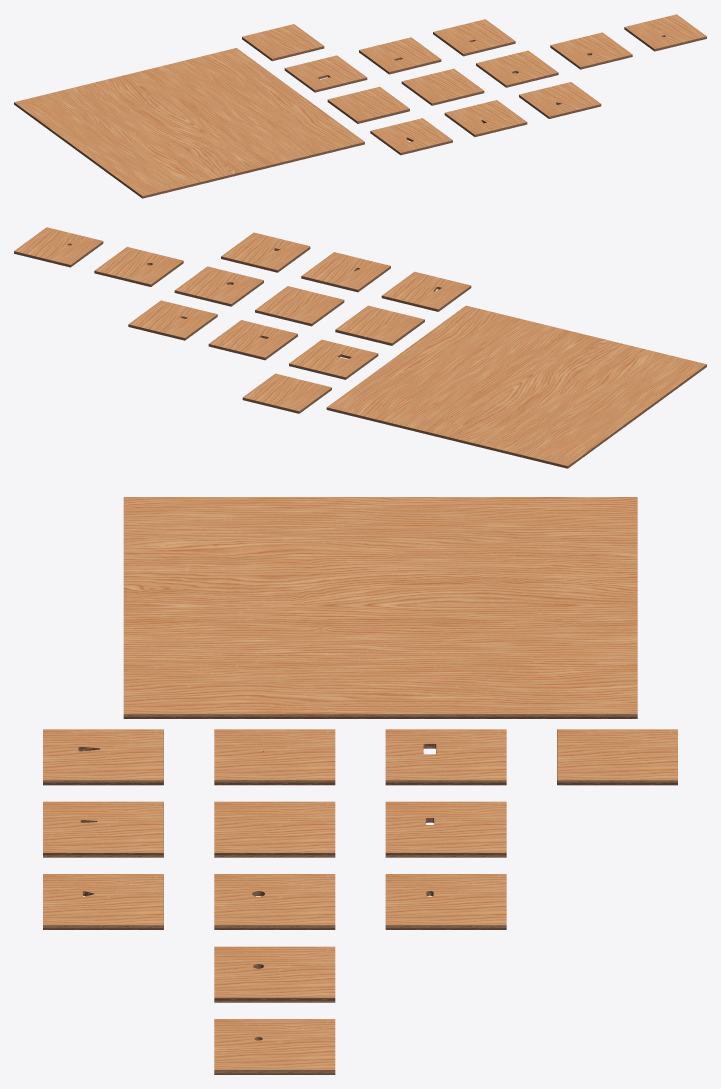
Rendered from Lookdev Playfields.fbx.
The picture shows the model from 3 angles, top to bottom: view 1: azimuth 30°, elevation 25°; view 2: azimuth 150°, elevation 25°; view 3: azimuth 270°, elevation 25°; orthographic projection. The views are drawn at different scales.
Parts seen in each view (by area): view 1: Playfield, Solid, Large, Playfield, Kicker, 1.25in, Beveled, Playfield, Insert, Rectangle, 2.25x1.125in, Playfield, Kicker, 1.25in, Playfield, Insert, Circle, 0.75in, Playfield, Drop Target, Playfield, Insert, Rectangle, 1.5x0.75in, Playfield, Insert, Triangle, 1.5in, Playfield, Solid, Playfield, Insert, Circle, 1.1875in, Playfield, Insert, Circle, 1in, Playfield, Insert, Trangle, 2in (+1 smaller); view 2: Playfield, Solid, Large, Playfield, Kicker, 1.25in, Beveled, Playfield, Insert, Rectangle, 1.5x0.75in, Playfield, Drop Target, Playfield, Insert, Rectangle, 2.25x1.125in, Playfield, Insert, Trangle, 2in, Playfield, Insert, Circle, 0.75in, Playfield, Insert, Trangle, 1.1875in, Playfield, Insert, Triangle, 1.5in, Playfield, Solid, Playfield, Insert, Circle, 1.1875in, Playfield, Kicker, 1.25in (+1 smaller); view 3: Playfield, Solid, Large, Playfield, Kicker, 1.25in, Playfield, Kicker, 1.25in, Beveled, Playfield, Insert, Circle, 1in, Playfield, Insert, Rectangle, 1.5x0.75in, Playfield, Insert, Trangle, 2in, Playfield, Insert, Triangle, 1.5in, Playfield, Solid, Playfield, Insert, Rectangle, 2.25x1.125in, Playfield, Drop Target, Playfield, Insert, Circle, 0.75in, Playfield, Insert, Circle, 1.1875in (+1 smaller).
Boxes of the visible parts, x1=… form: Playfield, Solid, Large: x1=14, y1=48, x2=364, y2=198; Playfield, Kicker, 1.25in, Beveled: x1=327, y1=86, x2=409, y2=123; Playfield, Insert, Rectangle, 2.25x1.125in: x1=284, y1=55, x2=367, y2=92; Playfield, Kicker, 1.25in: x1=401, y1=68, x2=484, y2=105; Playfield, Insert, Circle, 0.75in: x1=624, y1=14, x2=706, y2=51; Playfield, Drop Target: x1=433, y1=19, x2=515, y2=56; Playfield, Insert, Rectangle, 1.5x0.75in: x1=359, y1=37, x2=441, y2=74; Playfield, Insert, Triangle, 1.5in: x1=444, y1=100, x2=527, y2=136; Playfield, Solid: x1=242, y1=24, x2=324, y2=61; Playfield, Insert, Circle, 1.1875in: x1=476, y1=50, x2=558, y2=87; Playfield, Insert, Circle, 1in: x1=550, y1=32, x2=632, y2=69; Playfield, Insert, Trangle, 2in: x1=370, y1=118, x2=452, y2=155; Playfield, Solid, Large: x1=326, y1=305, x2=706, y2=468; Playfield, Kicker, 1.25in, Beveled: x1=335, y1=305, x2=424, y2=345; Playfield, Insert, Rectangle, 1.5x0.75in: x1=208, y1=320, x2=297, y2=360; Playfield, Drop Target: x1=128, y1=300, x2=217, y2=340; Playfield, Insert, Rectangle, 2.25x1.125in: x1=289, y1=339, x2=378, y2=379; Playfield, Insert, Trangle, 2in: x1=381, y1=271, x2=471, y2=311; Playfield, Insert, Circle, 0.75in: x1=14, y1=227, x2=103, y2=267; Playfield, Insert, Trangle, 1.1875in: x1=221, y1=232, x2=310, y2=272; Playfield, Insert, Triangle, 1.5in: x1=301, y1=252, x2=390, y2=292; Playfield, Solid: x1=242, y1=373, x2=331, y2=413; Playfield, Insert, Circle, 1.1875in: x1=174, y1=266, x2=263, y2=306; Playfield, Kicker, 1.25in: x1=255, y1=286, x2=344, y2=326; Playfield, Solid, Large: x1=123, y1=497, x2=637, y2=718; Playfield, Kicker, 1.25in: x1=214, y1=801, x2=335, y2=857; Playfield, Kicker, 1.25in, Beveled: x1=214, y1=729, x2=335, y2=785; Playfield, Insert, Circle, 1in: x1=214, y1=946, x2=335, y2=1002; Playfield, Insert, Rectangle, 1.5x0.75in: x1=385, y1=801, x2=506, y2=857; Playfield, Insert, Trangle, 2in: x1=43, y1=729, x2=163, y2=785; Playfield, Insert, Triangle, 1.5in: x1=43, y1=801, x2=163, y2=857; Playfield, Solid: x1=557, y1=729, x2=677, y2=785; Playfield, Insert, Rectangle, 2.25x1.125in: x1=385, y1=729, x2=506, y2=785; Playfield, Drop Target: x1=385, y1=874, x2=506, y2=929; Playfield, Insert, Circle, 0.75in: x1=214, y1=1019, x2=335, y2=1074; Playfield, Insert, Circle, 1.1875in: x1=214, y1=874, x2=335, y2=929.
Bounding box in the file's own units: 316 × 1.27 × 148.
